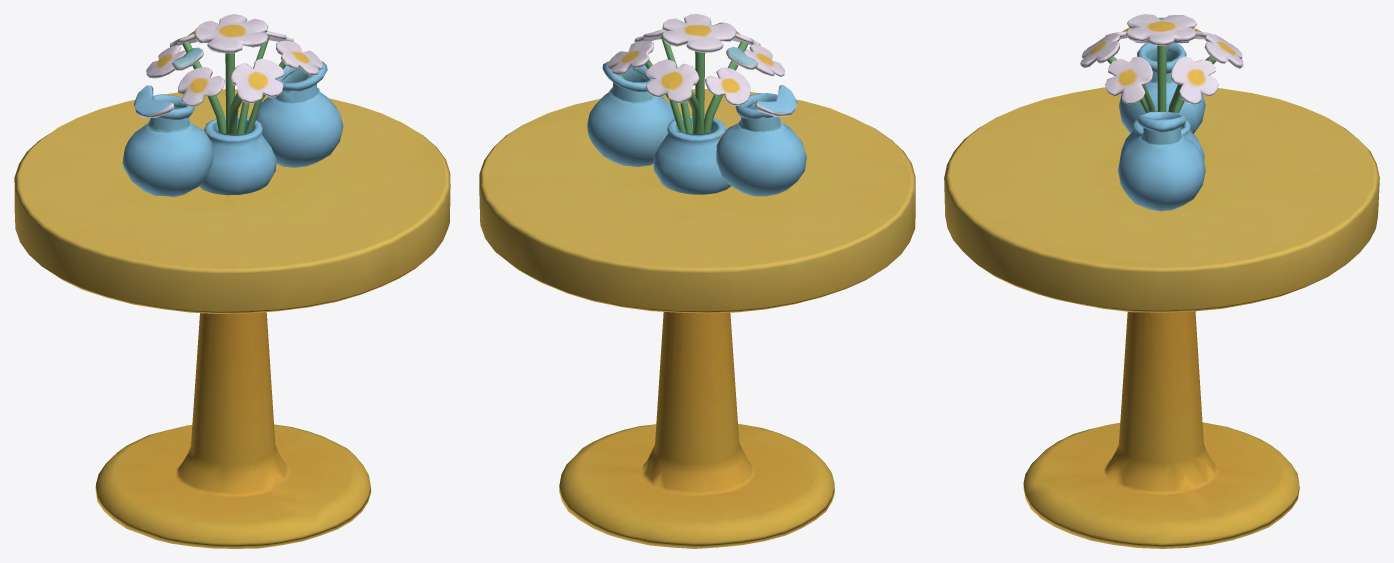
Rendered from flower-table.glb.
3 views of the same model, side by side, from view 1: azimuth 30°, elevation 25°; view 2: azimuth 150°, elevation 25°; view 3: azimuth 270°, elevation 25° (orthographic).
Parts seen in each view (by area): view 1: geometry_0; view 2: geometry_0; view 3: geometry_0.
Boxes of the visible parts, box(x1,y1,x2,y2) form: geometry_0: box(14, 14, 450, 548); geometry_0: box(479, 14, 915, 548); geometry_0: box(944, 14, 1379, 548).
Bounding box in the file's own units: 0.8605 × 0.9983 × 0.8471.
1 material, 1 textured.
